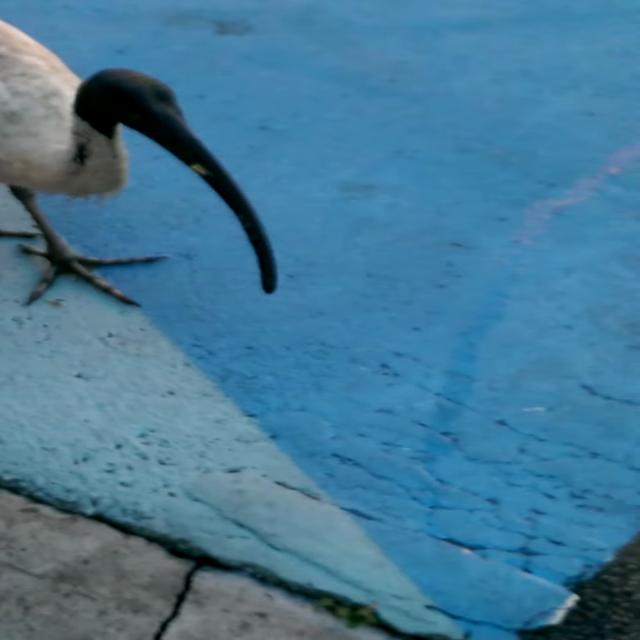Birds-Ibis: (0, 0, 287, 316)
